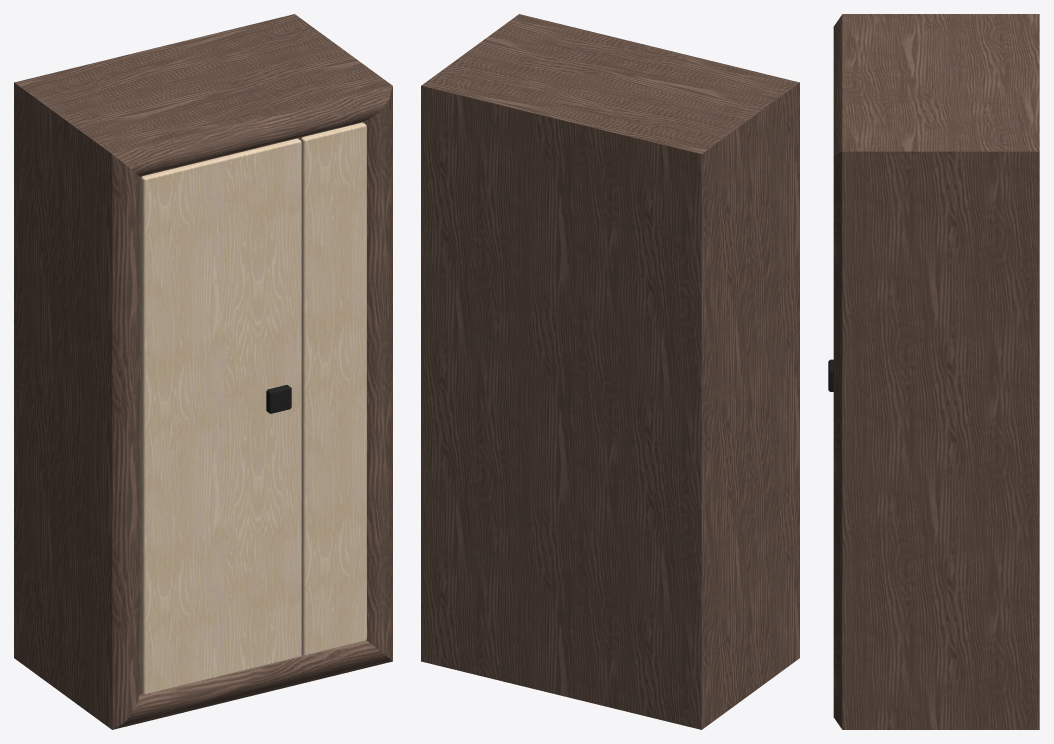
The model's file is cupboard_033.fbx.
3 views of the same model, side by side, from view 1: azimuth 30°, elevation 25°; view 2: azimuth 150°, elevation 25°; view 3: azimuth 270°, elevation 25° (orthographic).
Parts seen in each view (by area): view 1: cupboard_033; view 2: cupboard_033; view 3: cupboard_033.
Part boxes in pixels (box(x1,y1,x2,y2)): cupboard_033: box(14, 14, 392, 729); cupboard_033: box(421, 14, 799, 729); cupboard_033: box(828, 14, 1039, 729).
Size of the model in its own units: 114 by 74.22 by 224.
